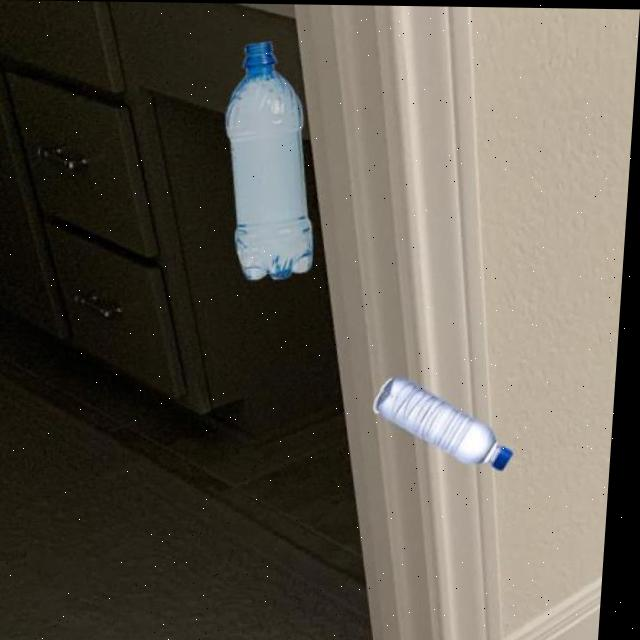bottle: (215, 37, 328, 281), (373, 374, 524, 471)
